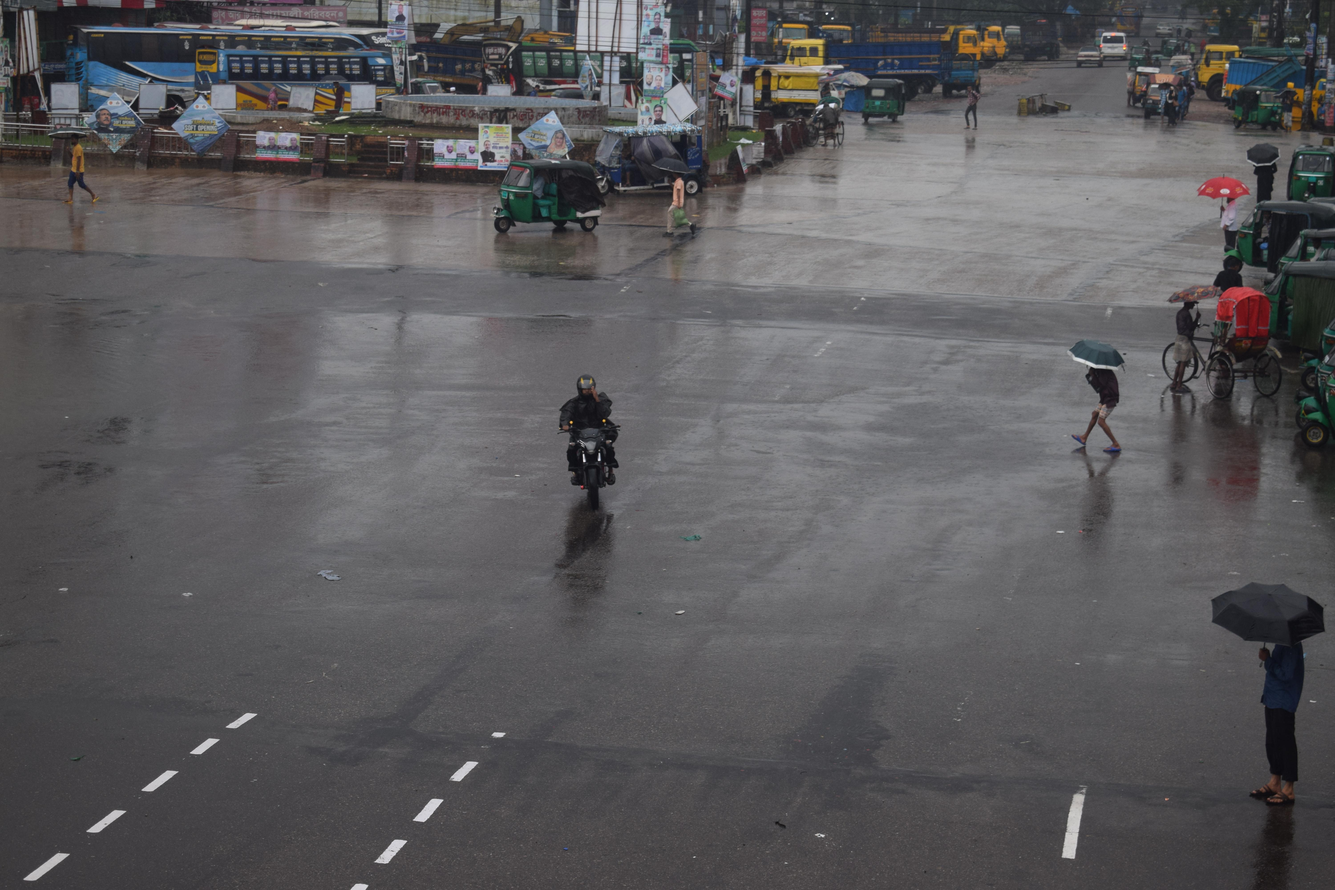Bike: (513, 335, 679, 555)
Bus: (49, 1, 246, 149), (164, 29, 419, 127), (478, 26, 682, 134)
Car: (1146, 285, 1295, 425), (585, 110, 718, 213), (744, 64, 843, 119), (802, 95, 868, 157), (1133, 75, 1196, 125), (1094, 22, 1135, 64), (1064, 42, 1107, 77)
Truck: (771, 24, 969, 85)
